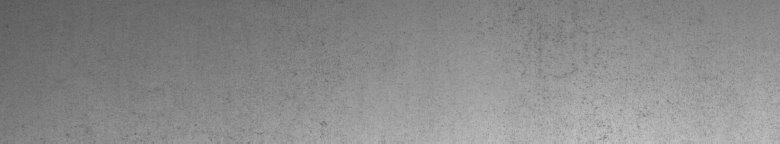ib: (507, 7, 679, 130)
